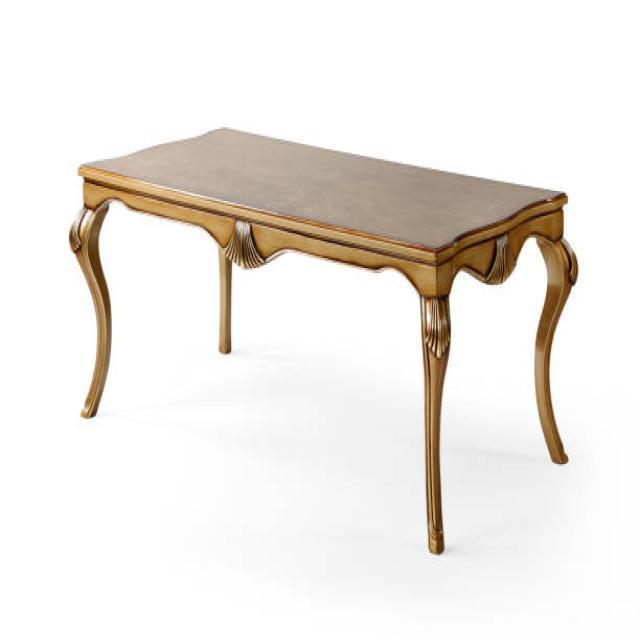table: (67, 125, 578, 554)
